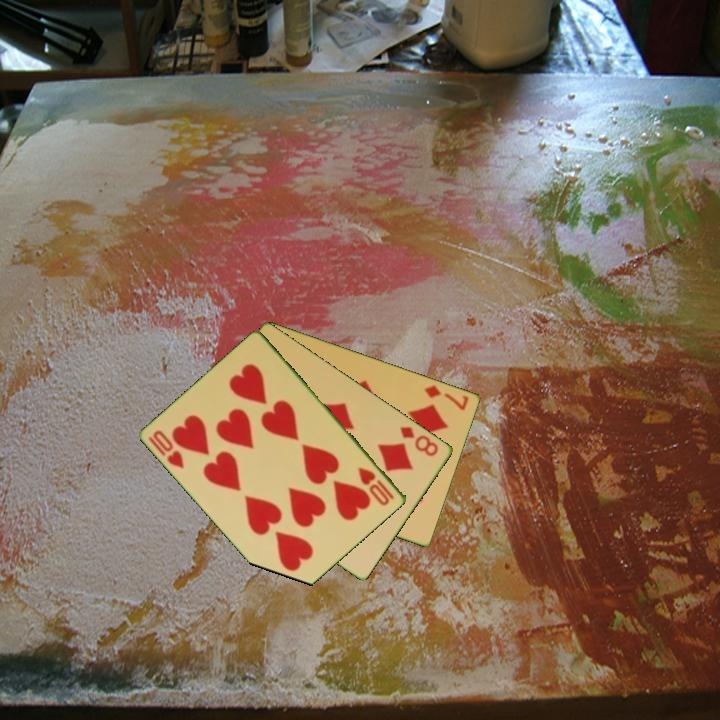10h: (355, 463, 398, 509), (145, 426, 188, 472)
7d: (421, 381, 472, 413)
8d: (397, 423, 442, 459)
